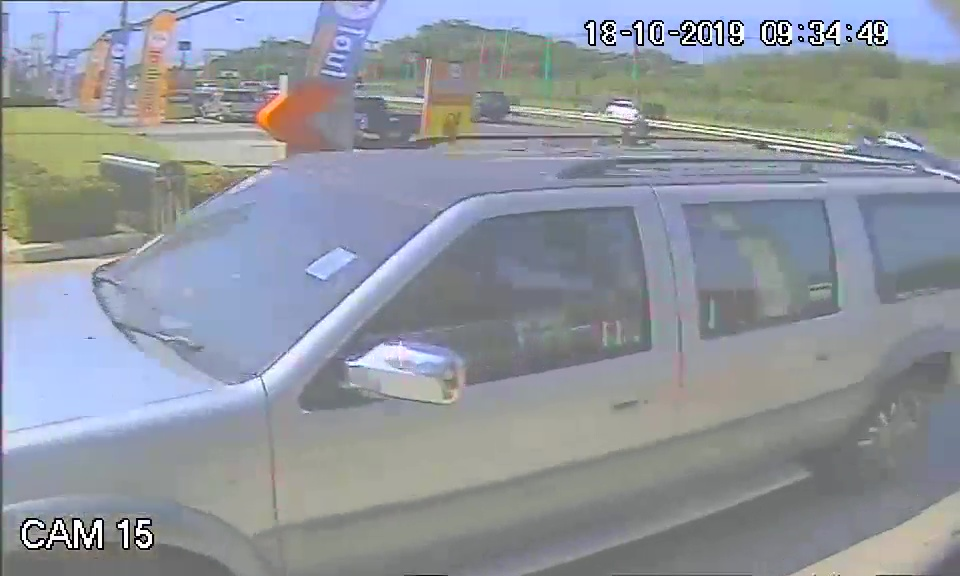van: (8, 111, 950, 530)
